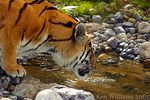Tigre: (1, 1, 102, 85)
